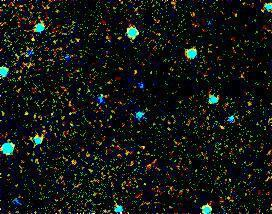star: (19, 25, 49, 55)
